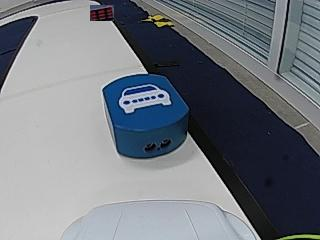safety: (118, 83, 172, 113)
